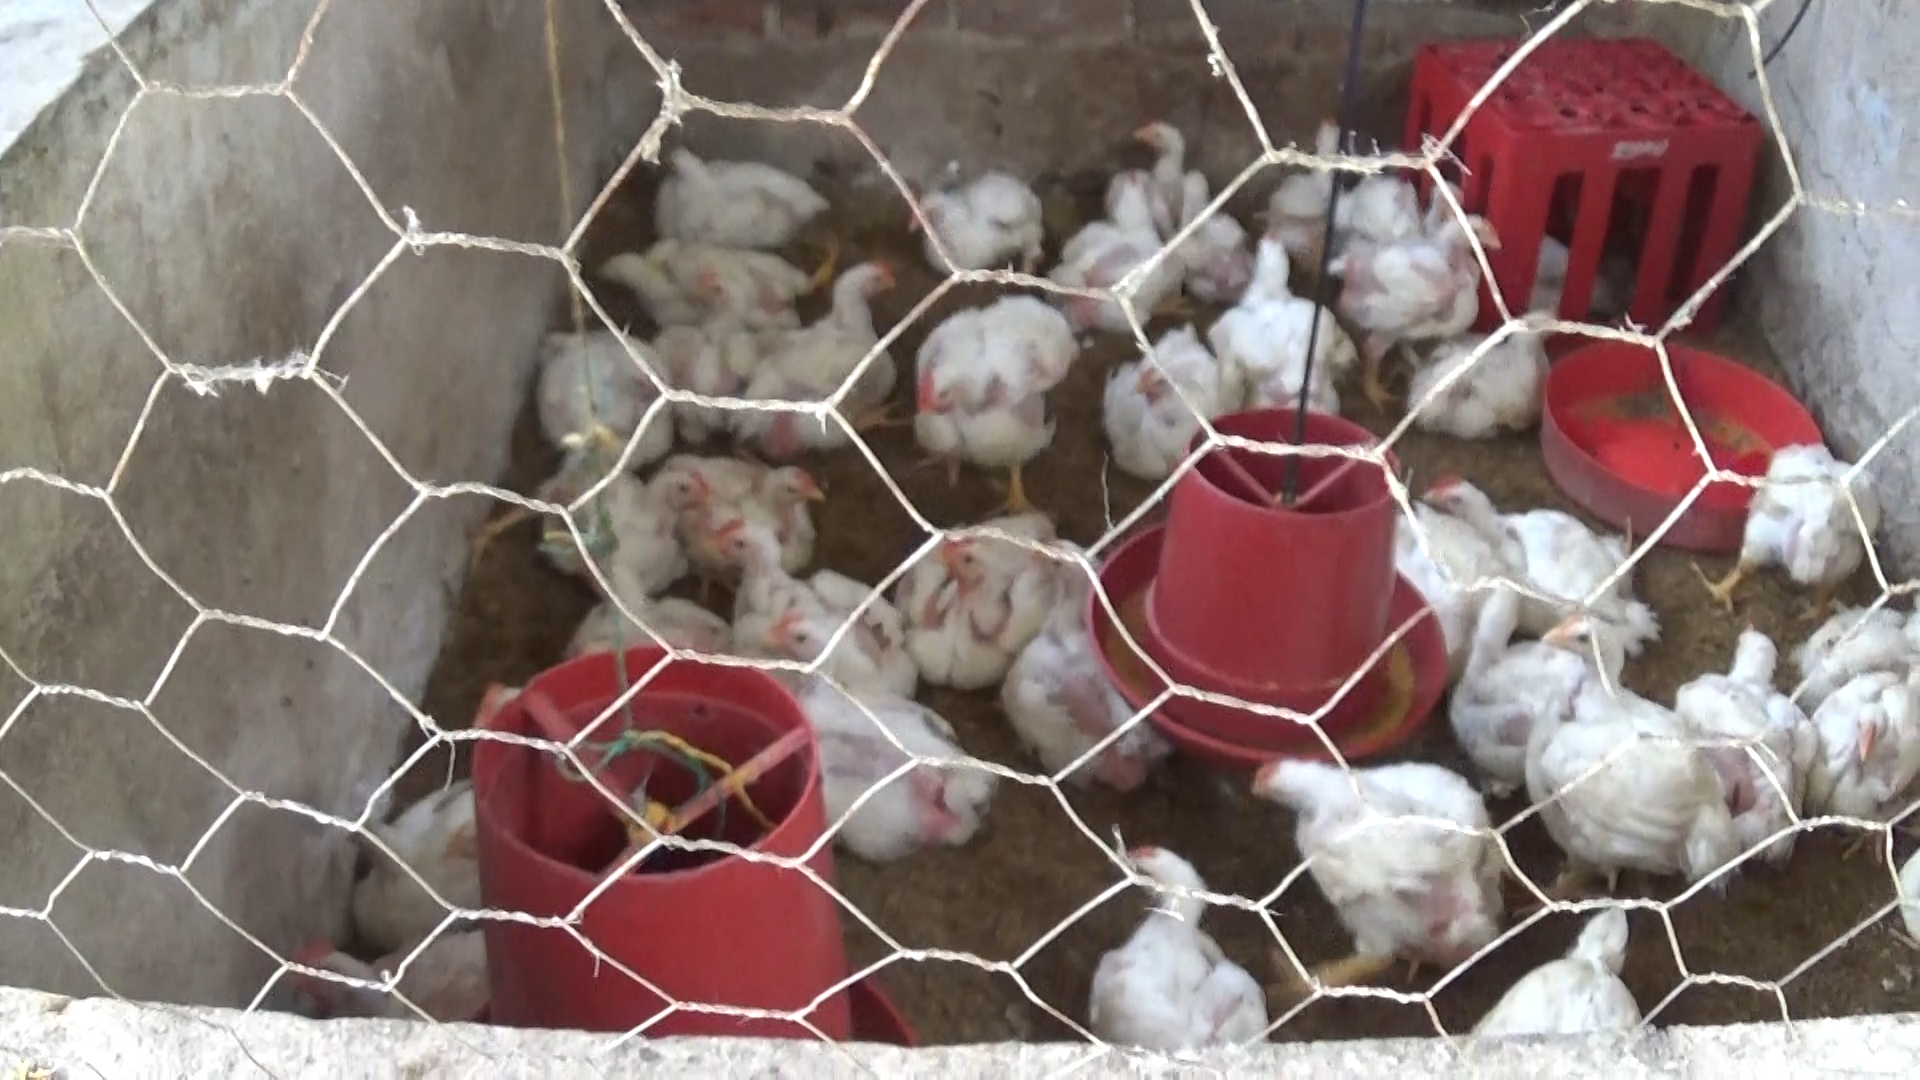Pollos: (1247, 746, 1516, 984), (1528, 603, 1739, 898), (877, 293, 1069, 495), (1083, 837, 1259, 1034), (1422, 468, 1651, 615), (804, 684, 1007, 848), (1455, 572, 1635, 752), (545, 311, 716, 495), (1646, 626, 1811, 816), (1742, 422, 1907, 611), (887, 506, 1054, 674), (593, 214, 814, 338), (1120, 112, 1259, 289), (760, 252, 913, 411), (1350, 218, 1511, 368), (640, 123, 847, 239), (1234, 218, 1360, 404), (1785, 676, 1920, 841), (669, 434, 843, 558), (1110, 324, 1222, 504), (1414, 298, 1557, 429), (890, 173, 1058, 273), (742, 588, 884, 703), (578, 468, 732, 572), (698, 504, 831, 618), (1273, 108, 1360, 251)
